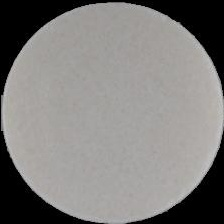63187-164: (0, 0, 224, 224)
